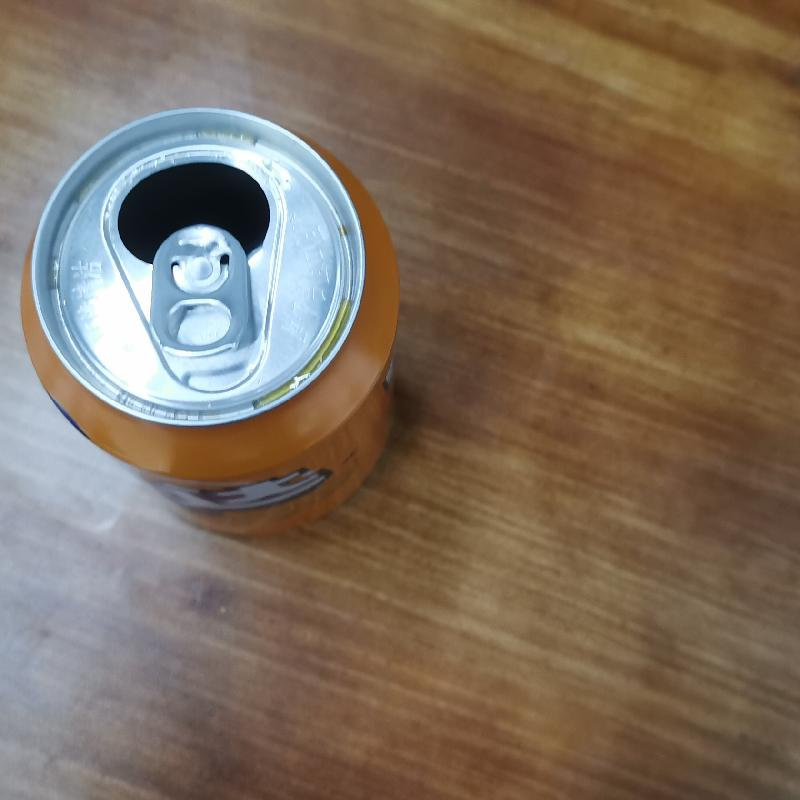cans: (18, 102, 401, 544)
